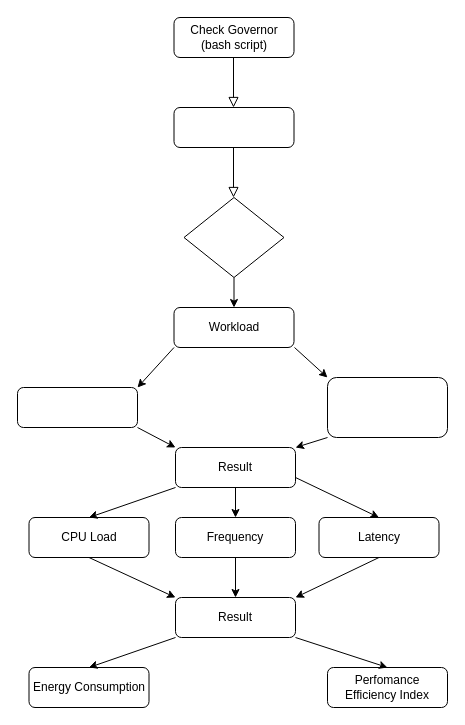
Image size: 465x725. Some labels were removed from this diagram. The shapes that lost their labels are listed below. From the top down, each one's box as (x1, y1, x2, y2) in pixels, then its label:
(173, 106, 294, 148): Set Governor (bash script)
(183, 196, 284, 278): Run python script
(16, 386, 138, 428): Sensor Workload
(326, 376, 448, 438): Computation Task (Dijkstra / Matrix Mul / Video)
